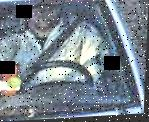seatbelt: (30, 13, 88, 70)
